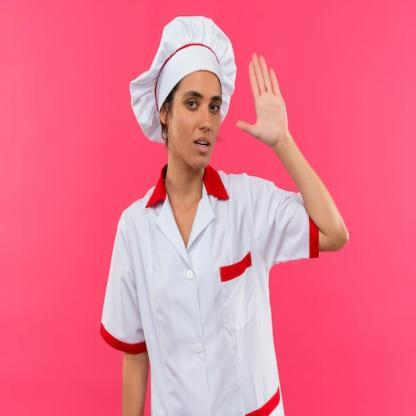stop: (233, 50, 292, 148)
